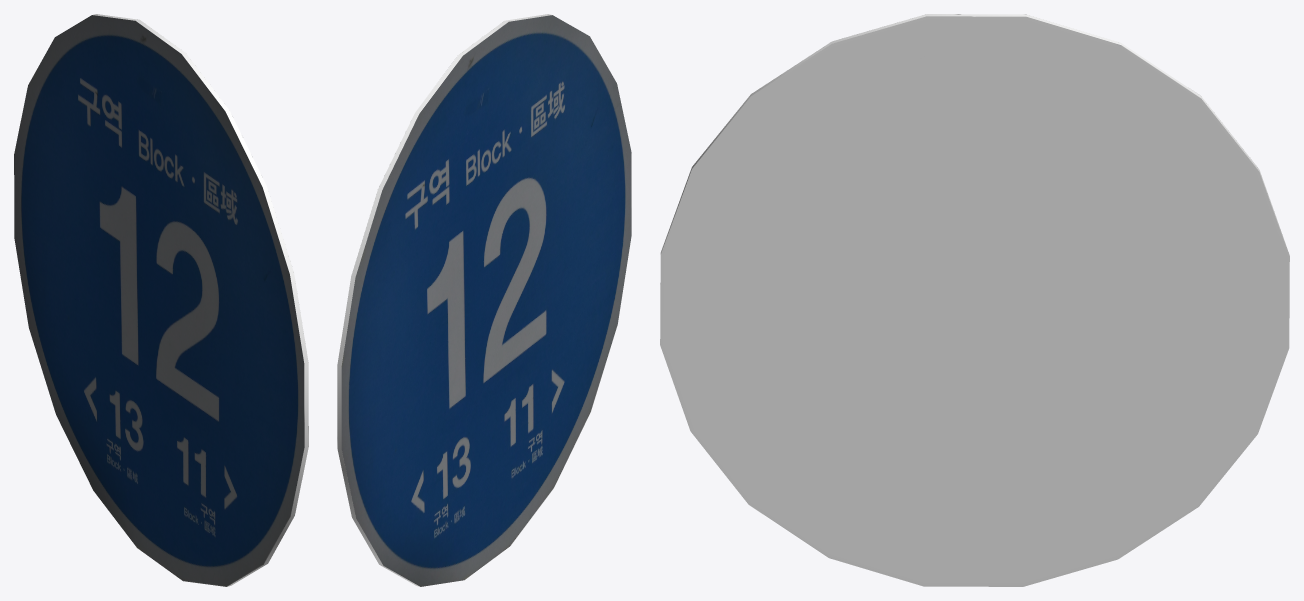
File: SM_015_Seat_7_1.fbx
3 renders of one model, left to right at view 1: azimuth 30°, elevation 25°; view 2: azimuth 150°, elevation 25°; view 3: azimuth 270°, elevation 25°, orthographic. The views are drawn at different scales.
Visible parts, largest first — view 1: SM_015_Seat_7_1; view 2: SM_015_Seat_7_1; view 3: SM_015_Seat_7_1.
Boxes of the visible parts, x1,y1,x2,y2 form: SM_015_Seat_7_1: [14, 14, 308, 586]; SM_015_Seat_7_1: [337, 14, 631, 586]; SM_015_Seat_7_1: [660, 14, 1289, 586].
Bounding box in the file's own units: 0.3841 × 44.73 × 44.73.
Materials: 1 (1 with a texture image).
